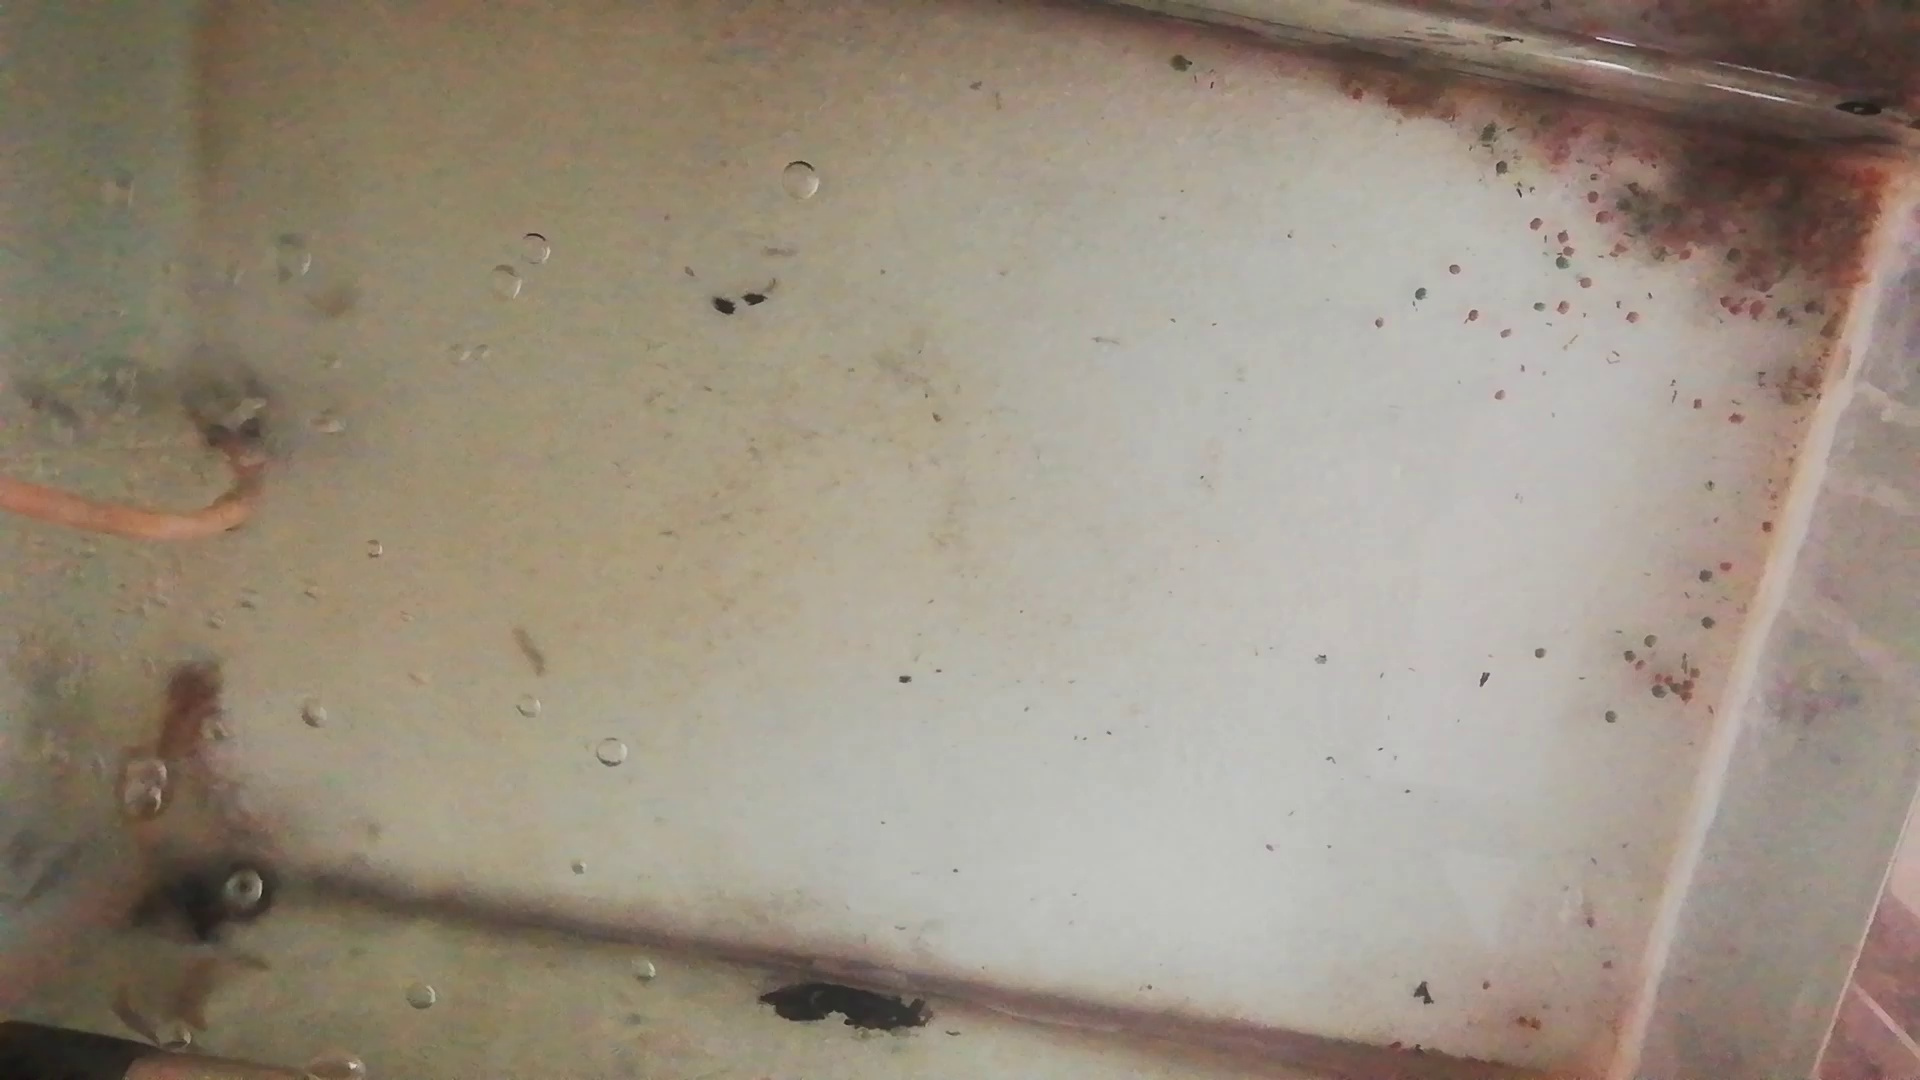fish: (142, 665, 208, 814)
